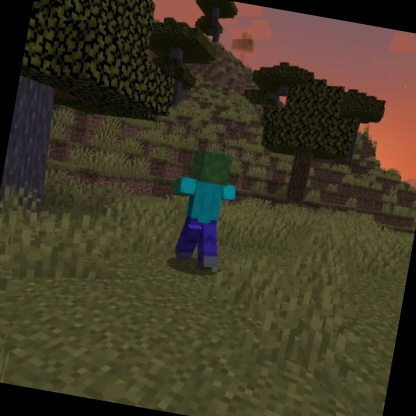zombie: (153, 143, 248, 277)
